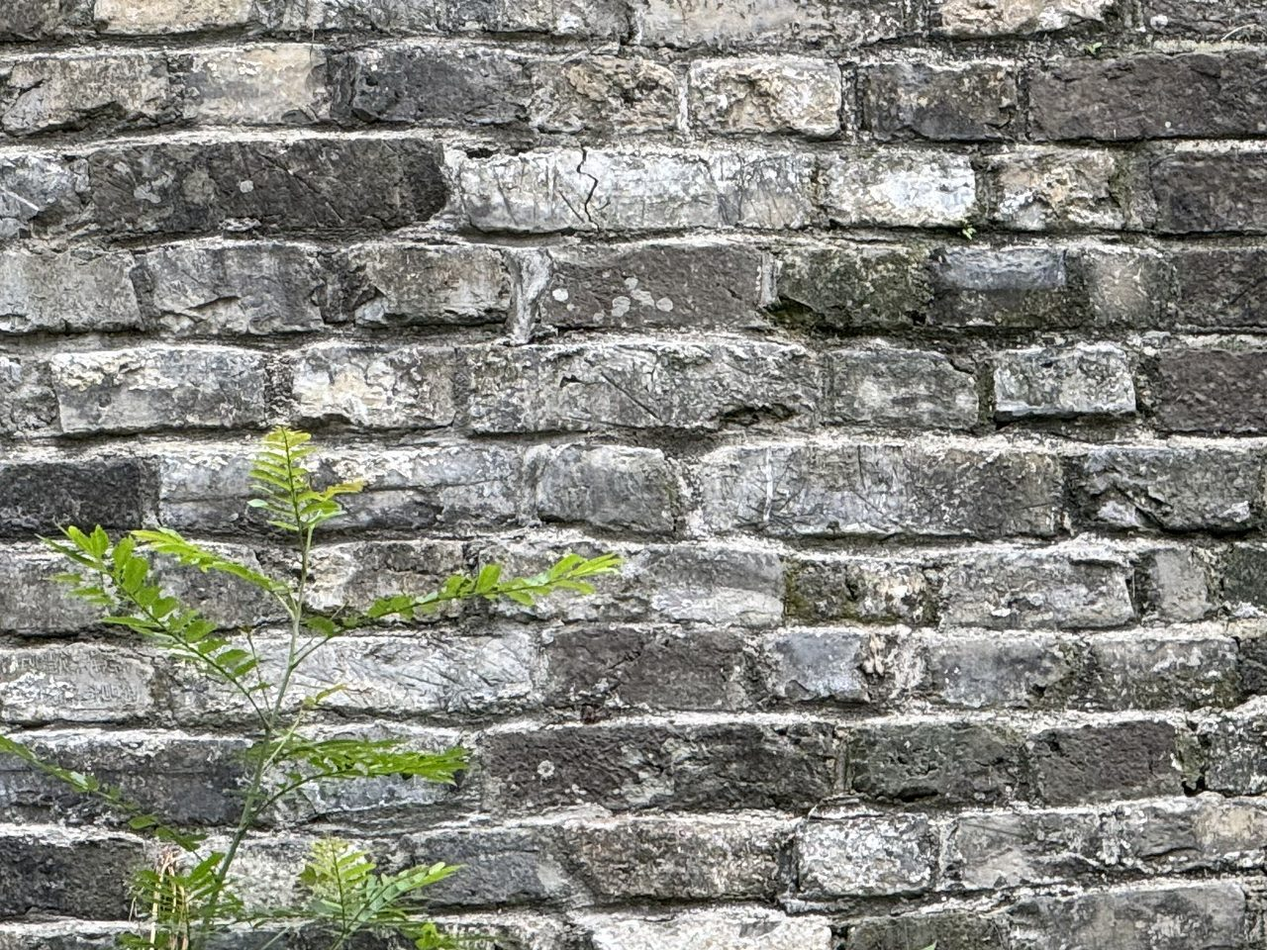vegetation: (42, 400, 642, 950), (274, 861, 470, 950), (238, 413, 371, 535)
